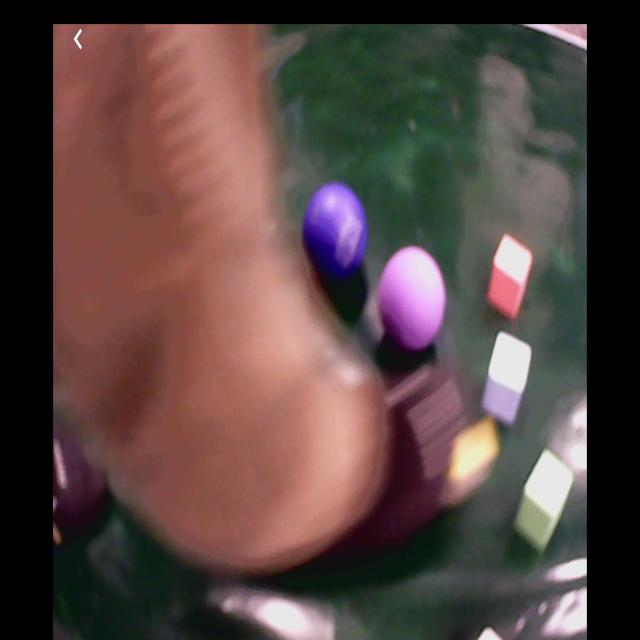ball: (380, 248, 445, 347), (305, 183, 366, 283)
